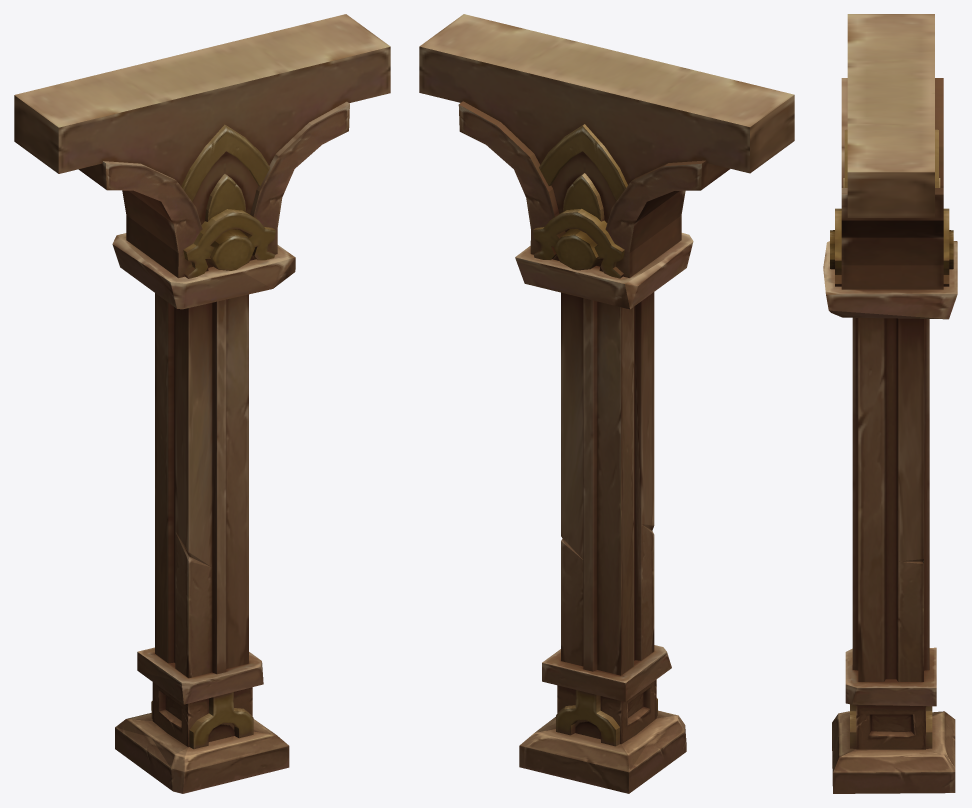
The model's file is zhuzi.fbx.
3 views of the same model, side by side, from view 1: azimuth 30°, elevation 25°; view 2: azimuth 150°, elevation 25°; view 3: azimuth 270°, elevation 25° (orthographic). The views are drawn at different scales.
Parts seen in each view (by area): view 1: mesh_humanlife_props_01; view 2: mesh_humanlife_props_01; view 3: mesh_humanlife_props_01.
Boxes of the visible parts, x1,y1,x2,y2 form: mesh_humanlife_props_01: (14,14,390,793); mesh_humanlife_props_01: (419,14,794,793); mesh_humanlife_props_01: (823,14,957,793).
Bounding box in the file's own units: 1722 × 3413 × 618.
